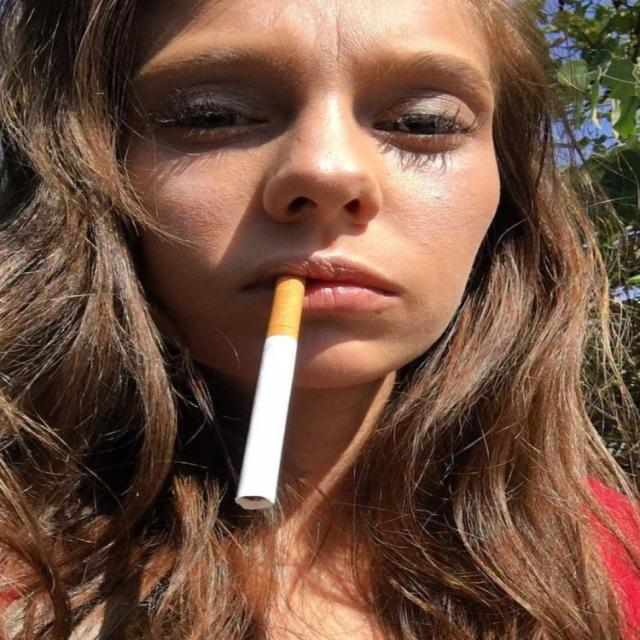smoke: (232, 274, 304, 514)
